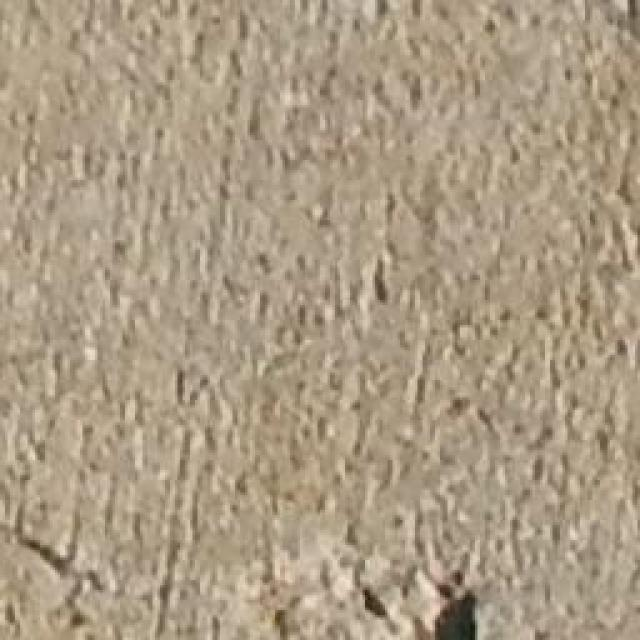concrete-crack: (424, 586, 483, 640)
